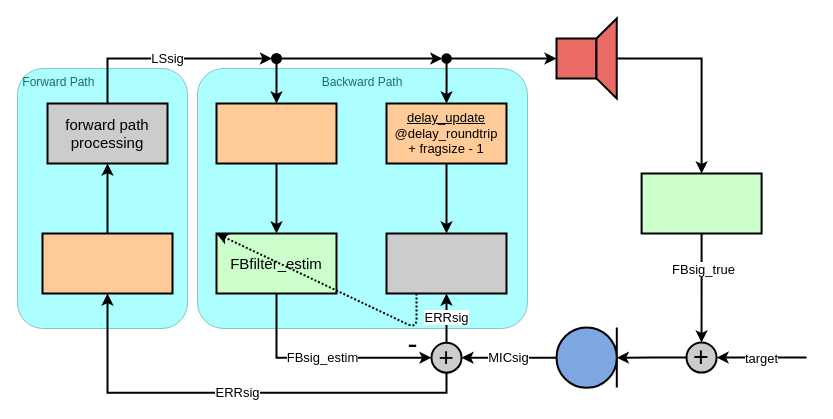
The diagram is 833 pixels wide and 419 high, and some of its shapes have lost their labels. The centre of each missing label's shape, as x and y in pixels:
delay_forward_path: [107,263]
delay_roundtrip (measured roundtrip latency) - fragsize: [276,133]
FBfilter_true: [701,203]
NLMS filter estimation: [446,263]
